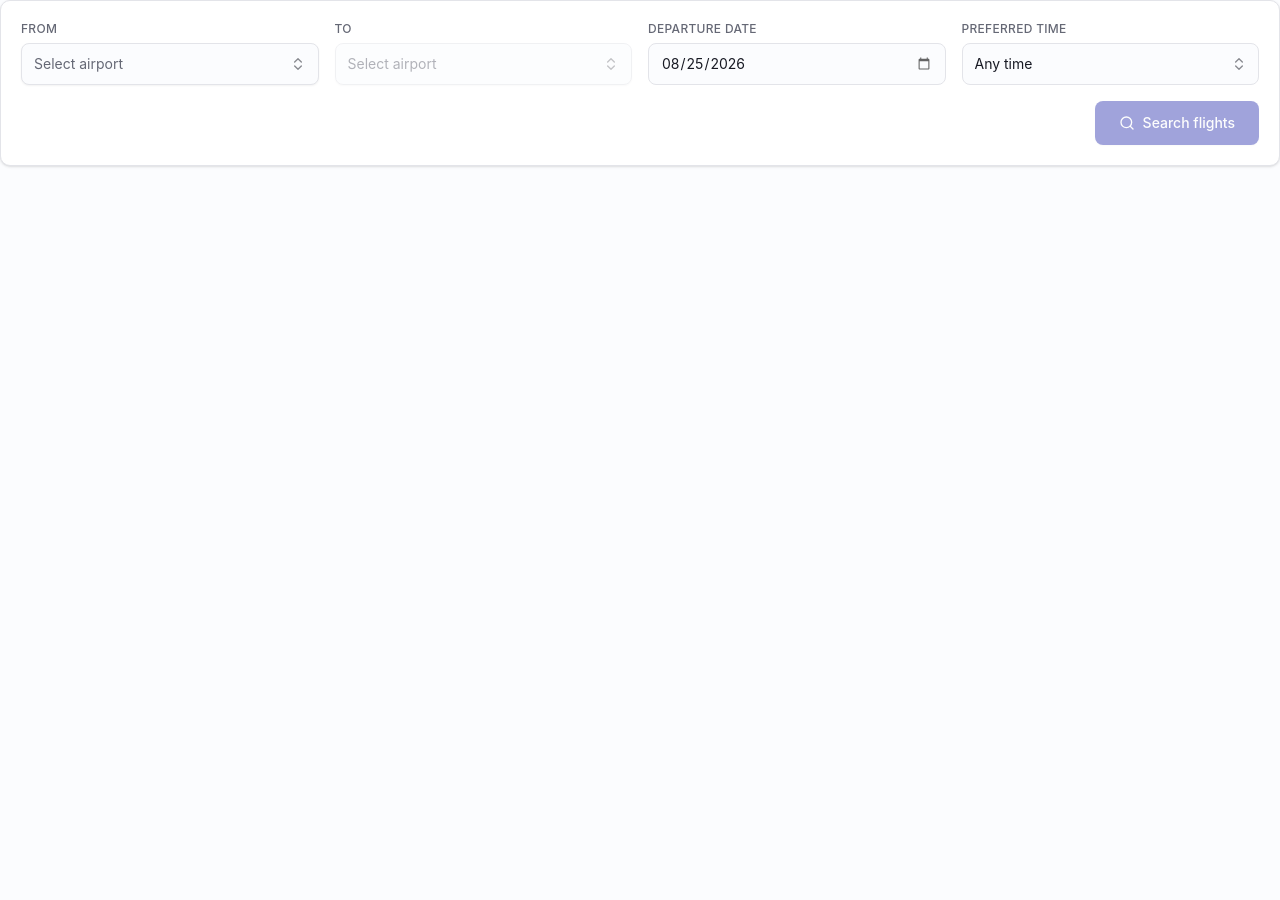
Scenario: SearchForm › keeps submit disabled until a route is chosen
Check: the button "Search flights" is disabled, box [1095,101,1259,145]
Click the dropdown named "From": coordinates (78, 64) [21,43,318,85]
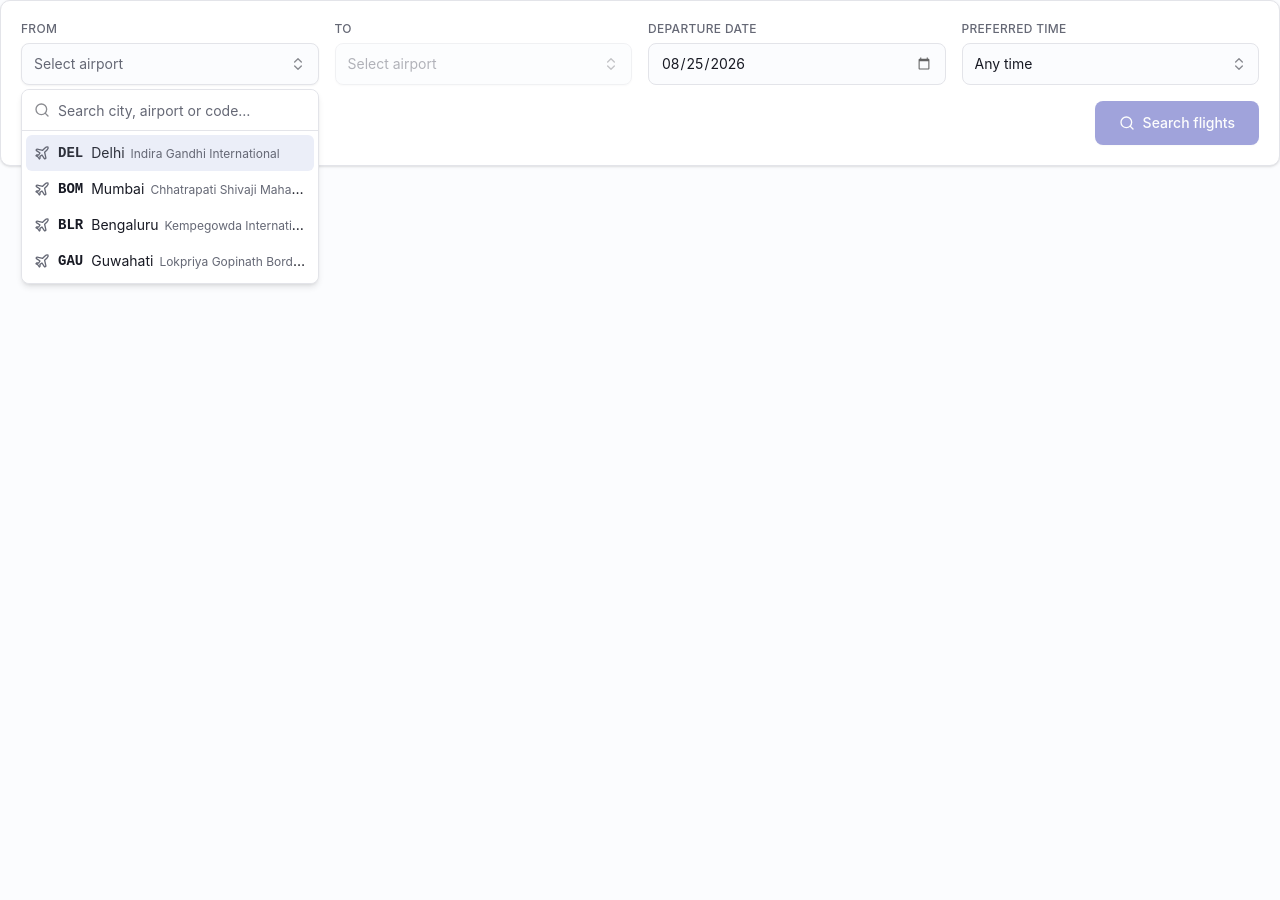
Click the option "Delhi": coordinates (170, 153) [26,135,314,171]
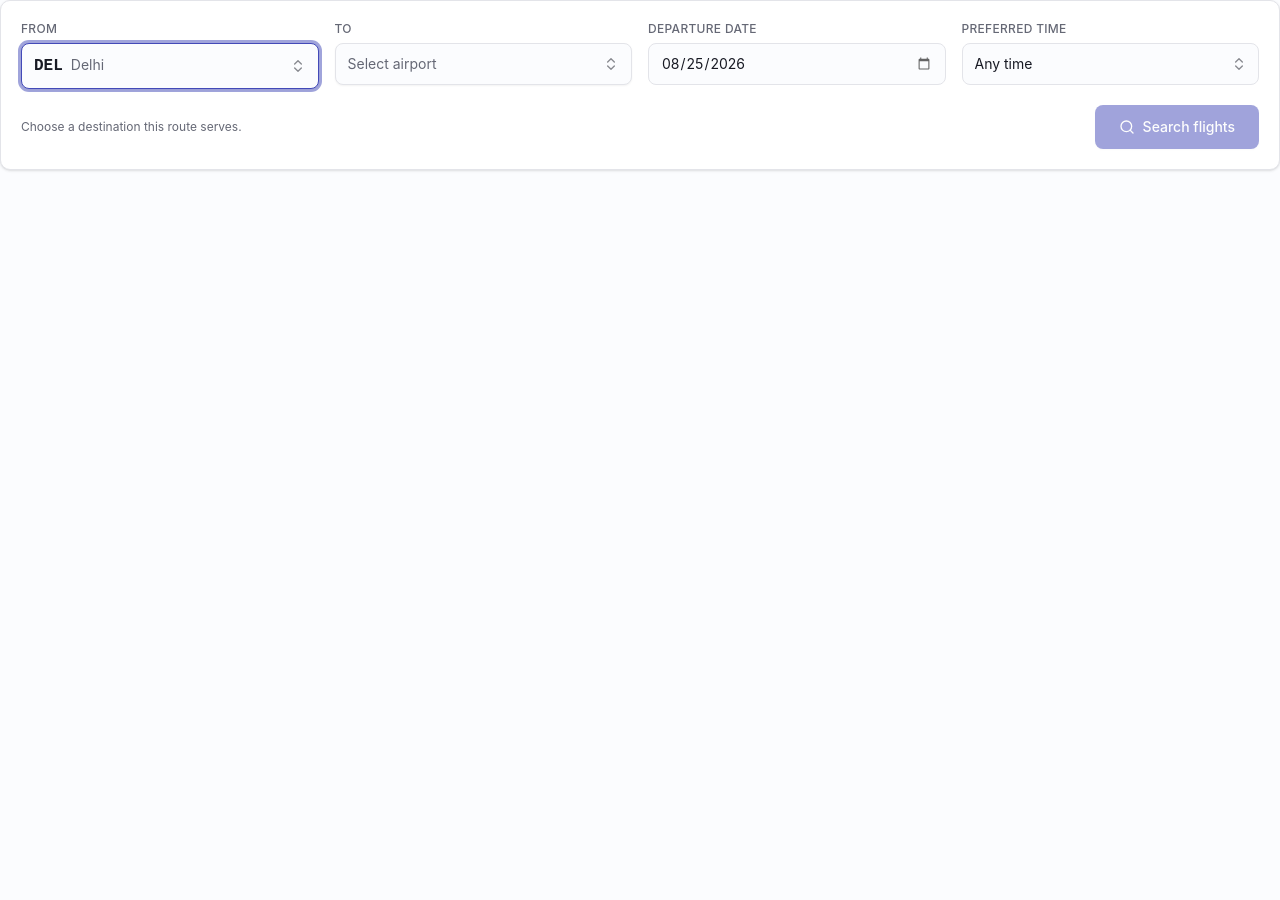
Check: the button "Search flights" is disabled, box [1095,105,1259,149]
Click the dropdown named "To": coordinates (392, 64) [334,43,632,85]
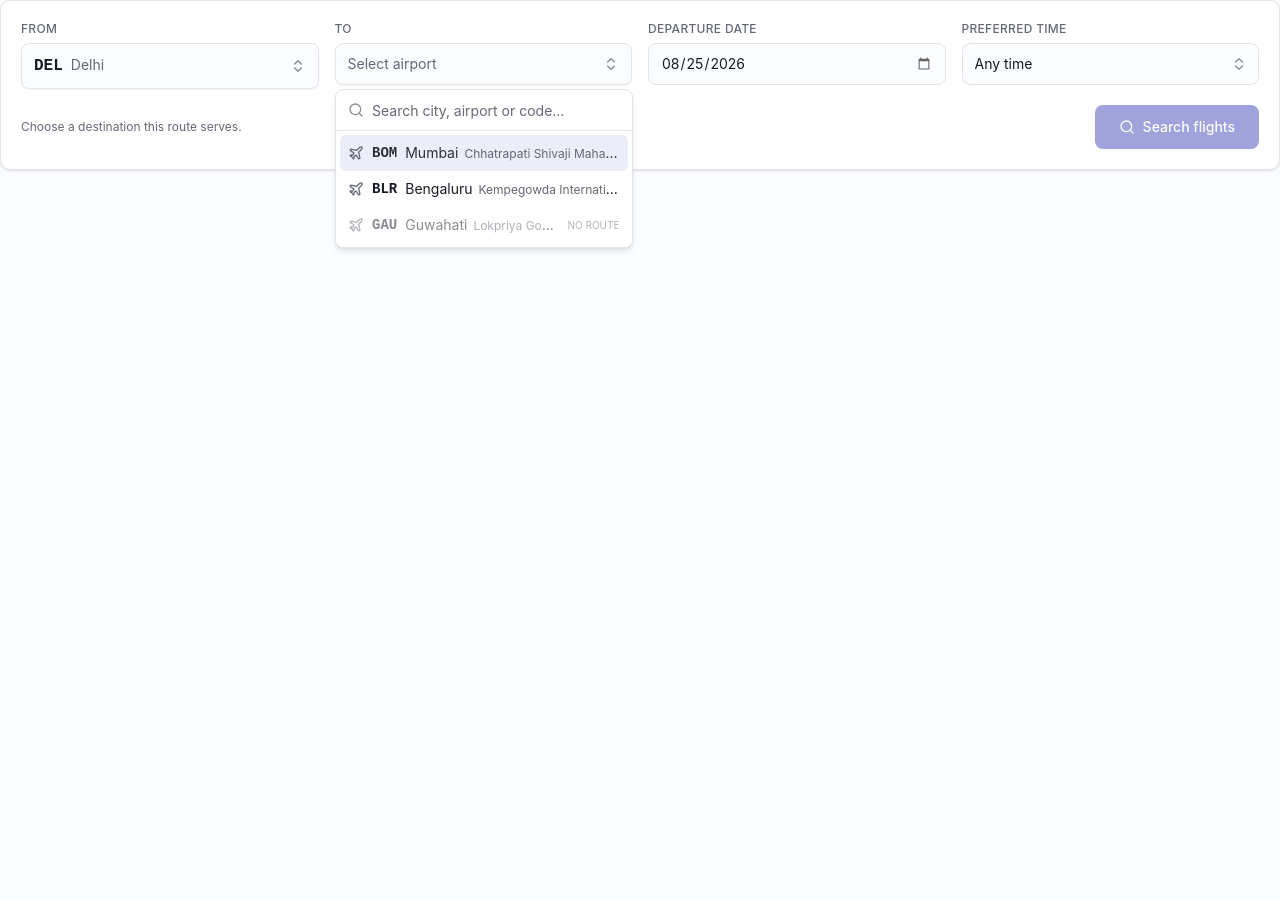
Click the option "Mumbai": coordinates (484, 153) [340,135,628,171]
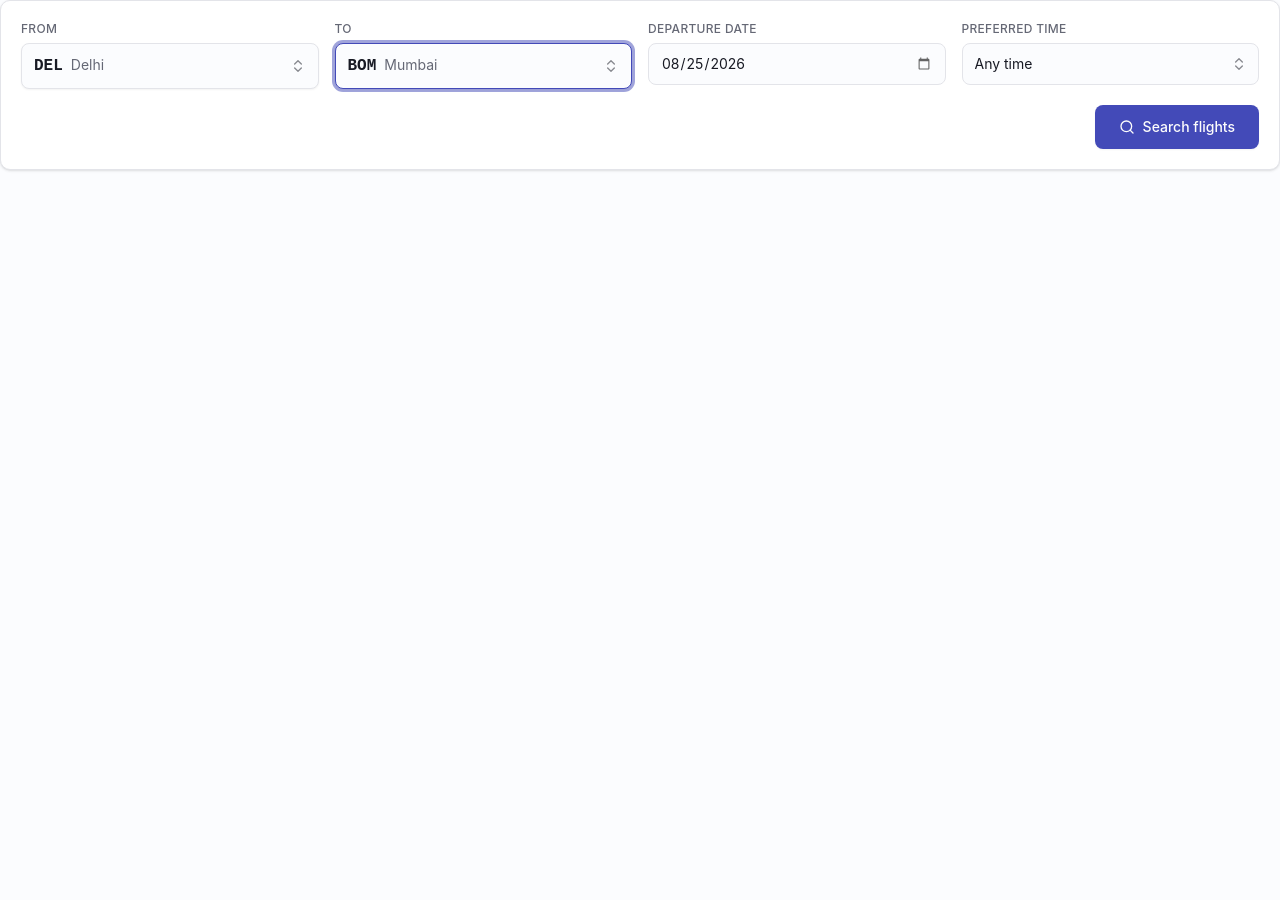
Check: the button "Search flights" is enabled, box [1095,105,1259,149]
